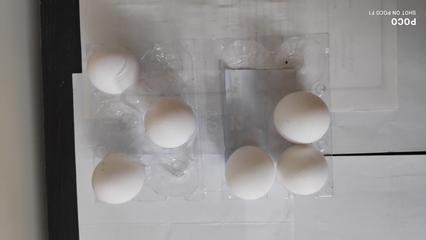eggs: (279, 141, 337, 204), (221, 142, 275, 204), (272, 92, 331, 147), (91, 153, 150, 207), (137, 100, 199, 151), (85, 45, 140, 92)
